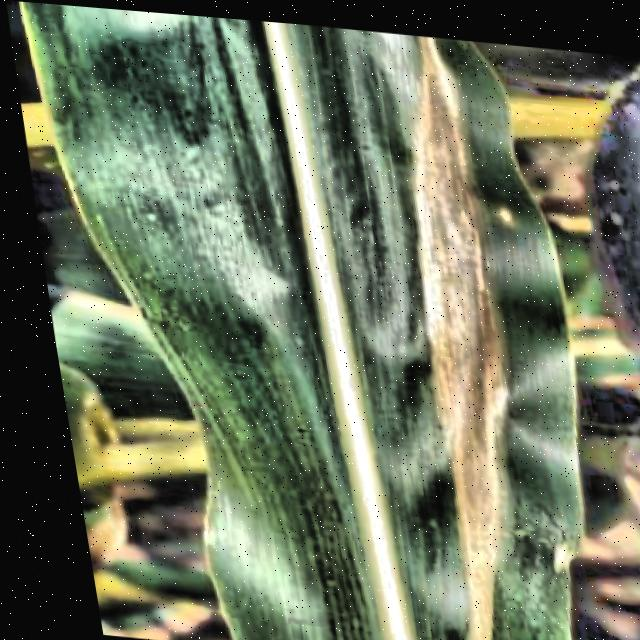blight: (111, 9, 607, 640)
